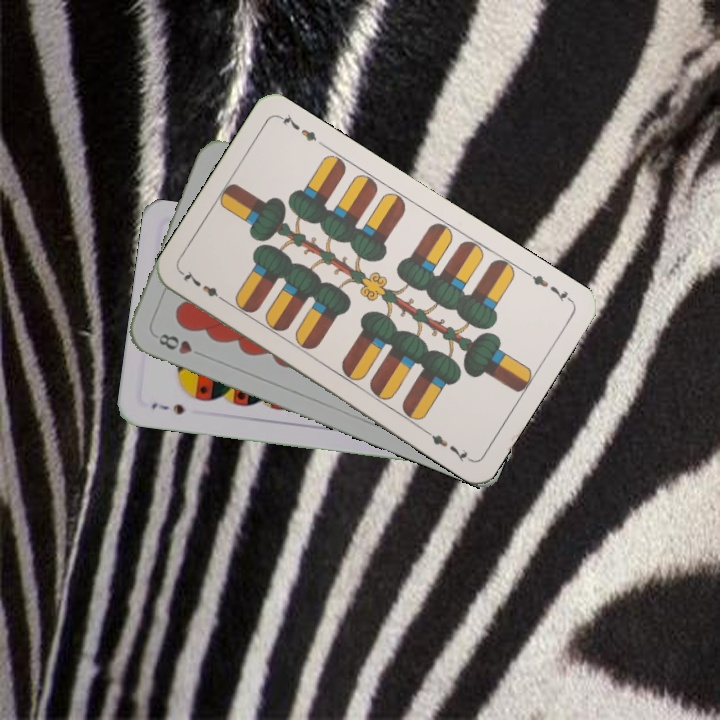E7: (178, 266, 230, 306), (521, 267, 574, 305)
H8: (154, 329, 207, 359)
S7: (147, 399, 187, 418)
